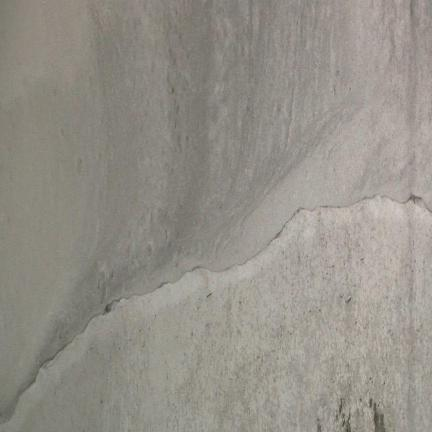crack1: (0, 180, 431, 431)
